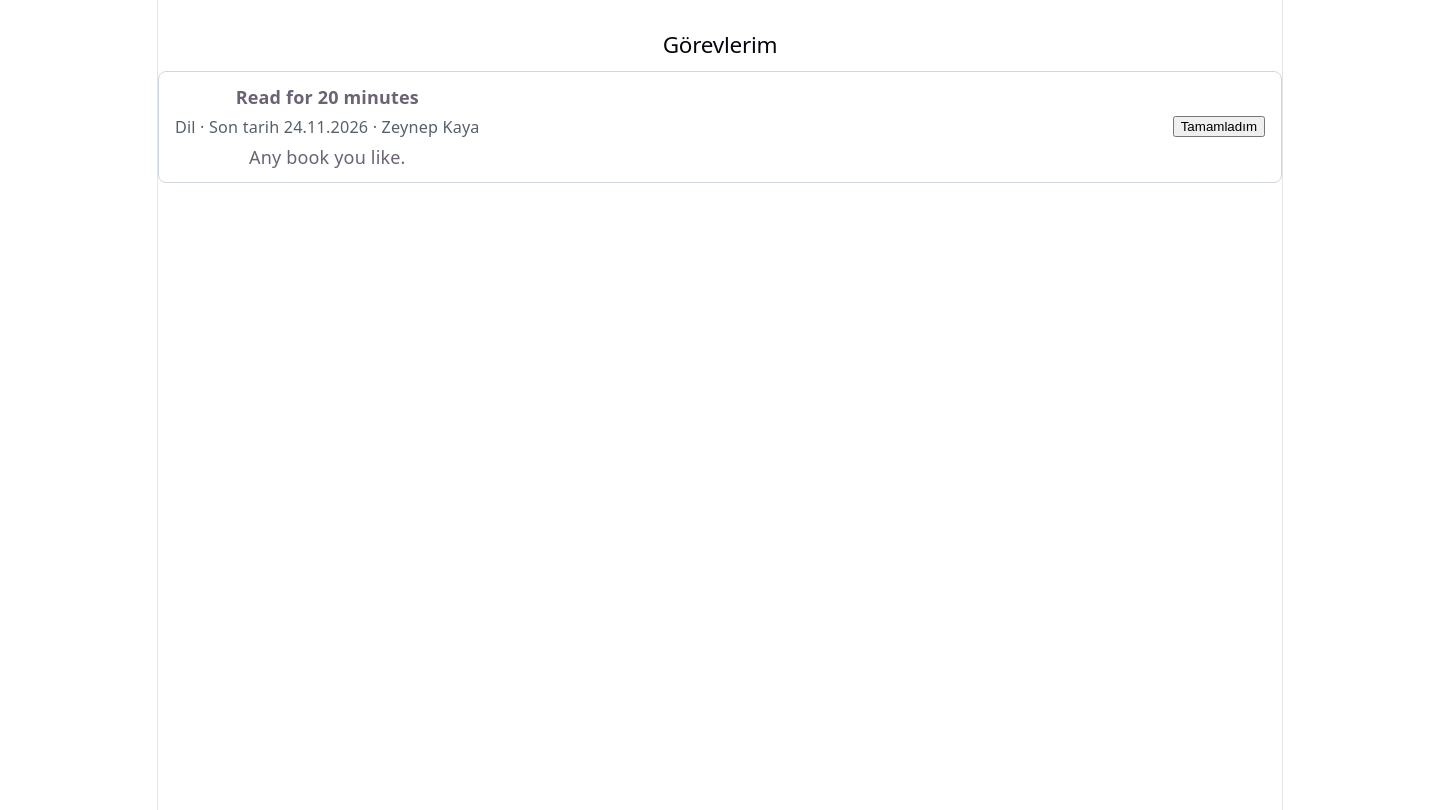
TaskList › lets the child mark a task done
The image size is (1440, 810).
Click the button "Tamamladım": click(1219, 127) [1173, 116, 1265, 137]
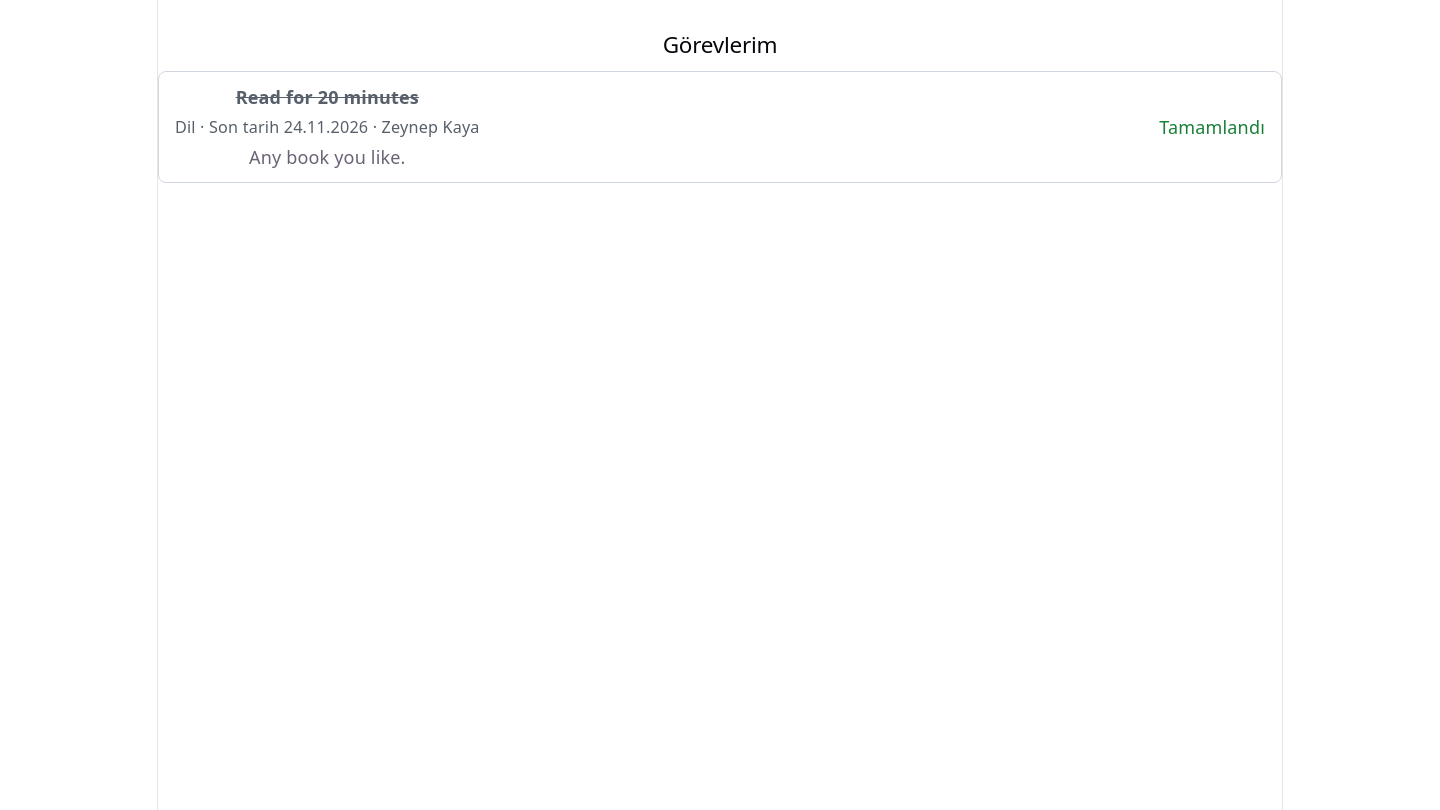
Check: the text "Tamamlandı" is shown, box [1159, 114, 1265, 140]
